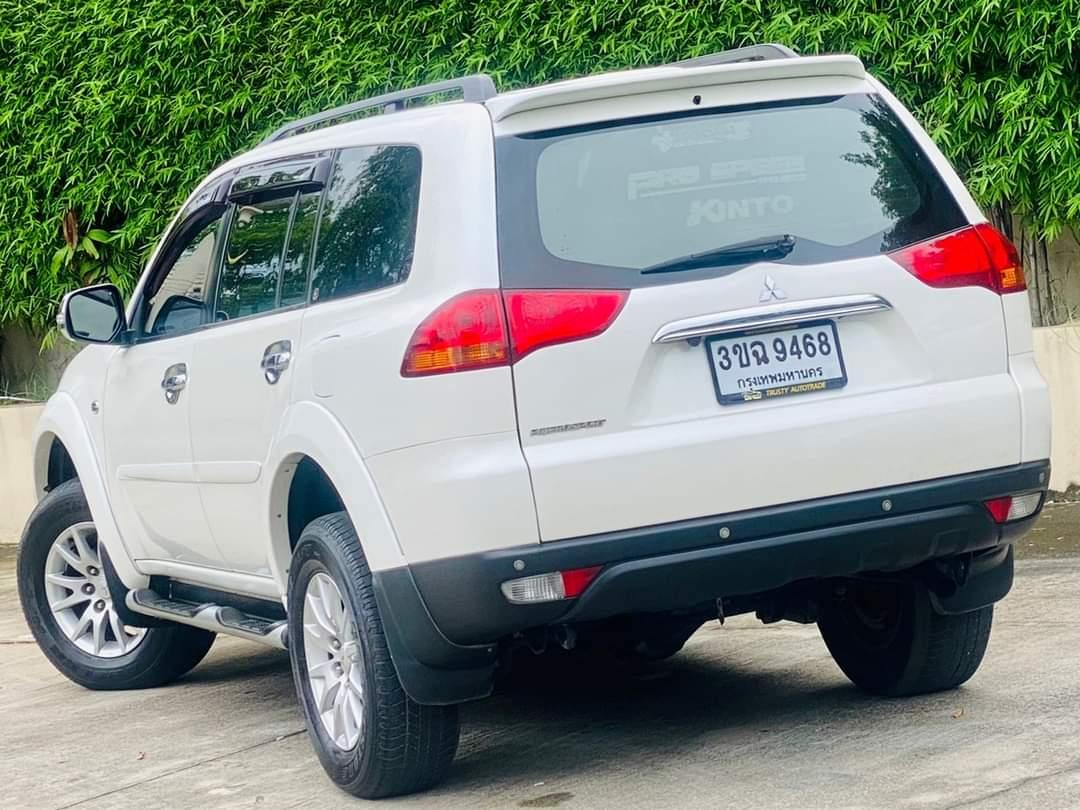license-plate: (704, 313, 852, 410)
